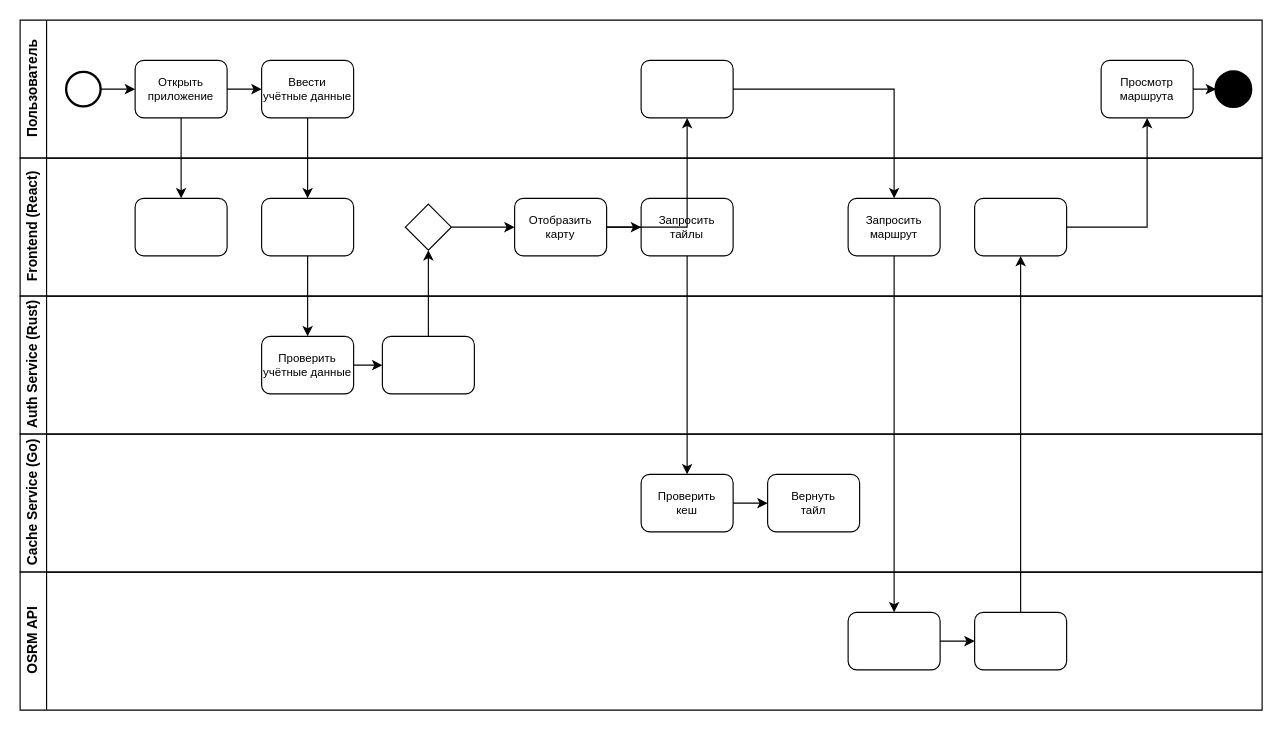
This 1282x730 diagram has some shape labels left out. Here are the shapes that lost their labels. From the top down, the centre of each, then its label:
pixel 686 88: Добавить точки маршрута
pixel 180 226: Отобразить форму входа
pixel 307 226: Отправить запрос login
pixel 1020 226: Отобразить маршрут
pixel 427 364: Выдать JWT токен
pixel 893 640: Рассчитать маршрут
pixel 1020 640: Вернуть геометрию
